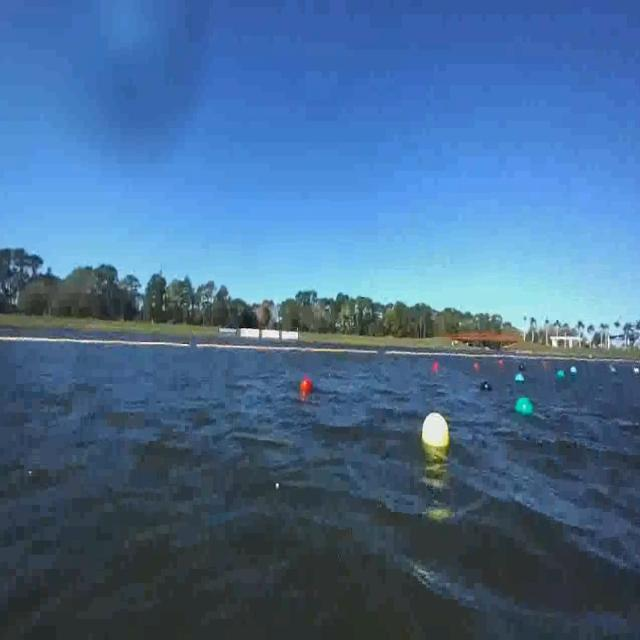black-buoy: (482, 382, 494, 393)
green-buoy: (514, 399, 532, 421)
red-buoy: (302, 378, 314, 394)
yellow-buoy: (422, 415, 449, 454)
